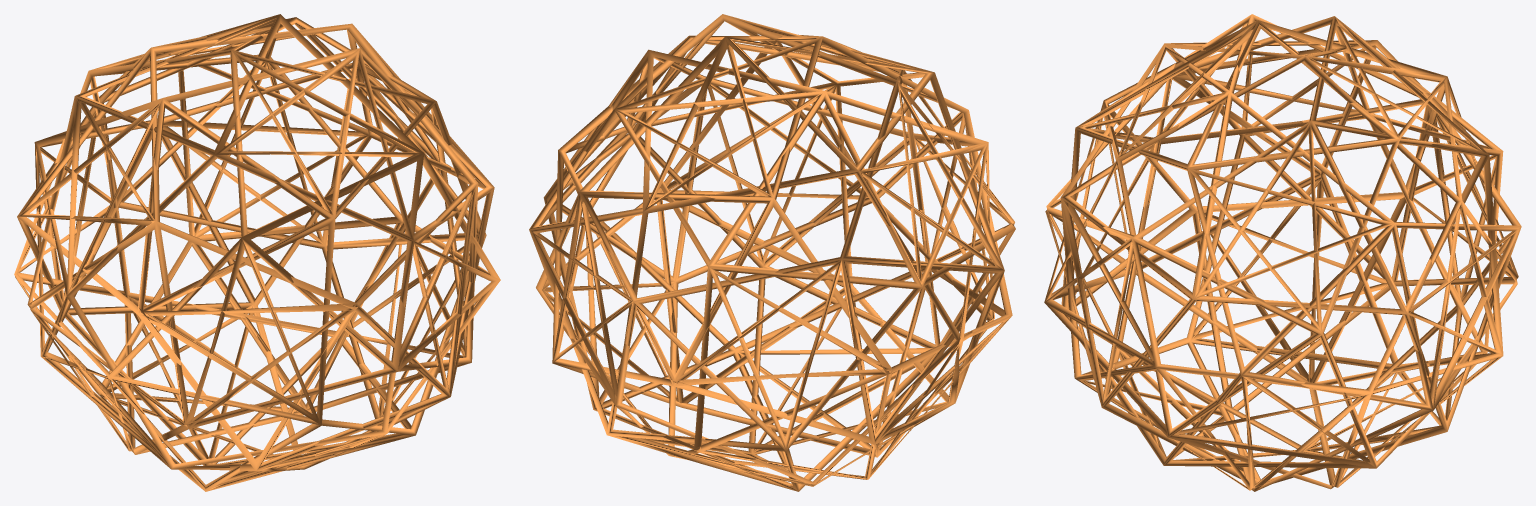
File: SnubIcosidodecadodecahedron2.glb
3 views of the same model, side by side, from view 1: azimuth 30°, elevation 25°; view 2: azimuth 150°, elevation 25°; view 3: azimuth 270°, elevation 25° (orthographic).
Parts seen in each view (by area): view 1: SnubIcosidodecadodecahedron; view 2: SnubIcosidodecadodecahedron; view 3: SnubIcosidodecadodecahedron.
Part boxes in pixels (left/top/right/bottom): SnubIcosidodecadodecahedron: left=14, top=14, right=500, bottom=491; SnubIcosidodecadodecahedron: left=529, top=14, right=1015, bottom=491; SnubIcosidodecadodecahedron: left=1044, top=14, right=1521, bottom=491.
Size of the model in its own units: 2.25 by 2.24 by 2.24.
